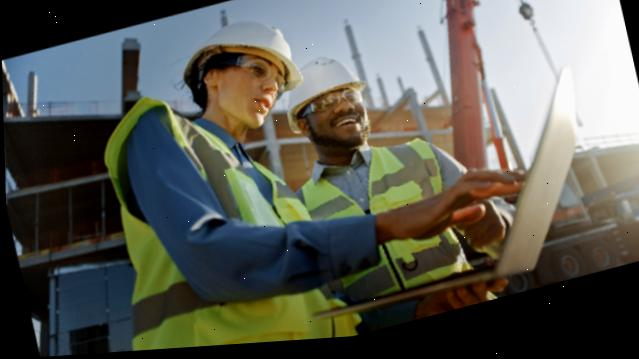helmet: (148, 7, 306, 126), (270, 41, 376, 142)
vest: (65, 72, 324, 356), (294, 126, 483, 333)
